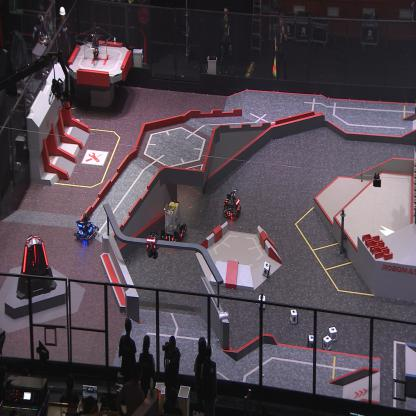car: (160, 198, 187, 245), (74, 211, 100, 246), (222, 188, 242, 220)
